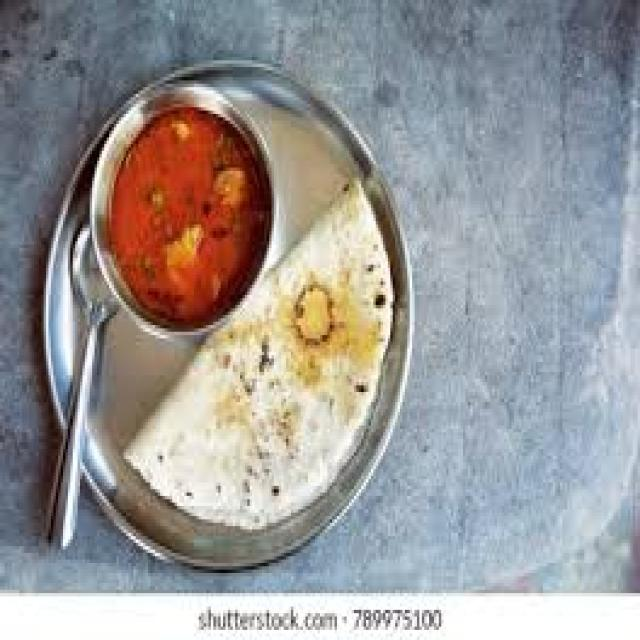RICE BHAKRI: (121, 178, 393, 526)
